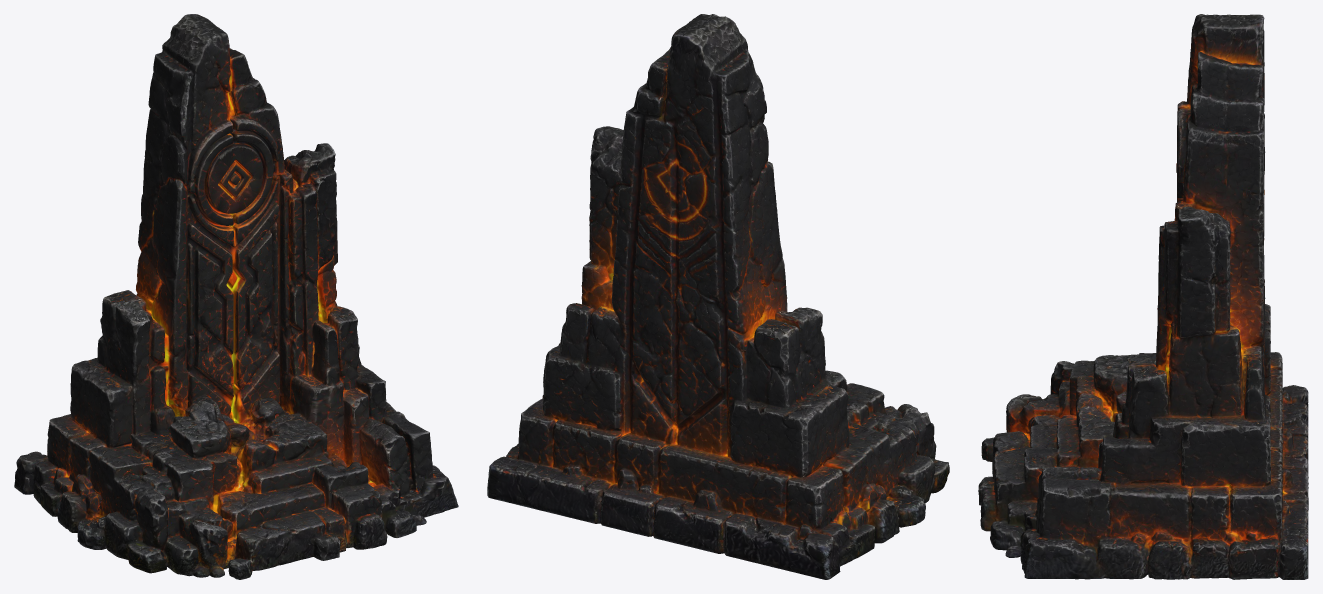
File: Infernal_Peak.glb
3 views of the same model, side by side, from view 1: azimuth 30°, elevation 25°; view 2: azimuth 150°, elevation 25°; view 3: azimuth 270°, elevation 25° (orthographic). The views are drawn at different scales.
Visible parts, largest first — view 1: Infernal_Peak; view 2: Infernal_Peak; view 3: Infernal_Peak.
Part boxes in pixels (x1,y1,x2,y2): Infernal_Peak: (14, 14, 458, 579); Infernal_Peak: (487, 14, 949, 579); Infernal_Peak: (978, 14, 1308, 579).
Bounding box in the file's own units: 1.44 × 1.9 × 1.19.
1 material, 1 textured.
